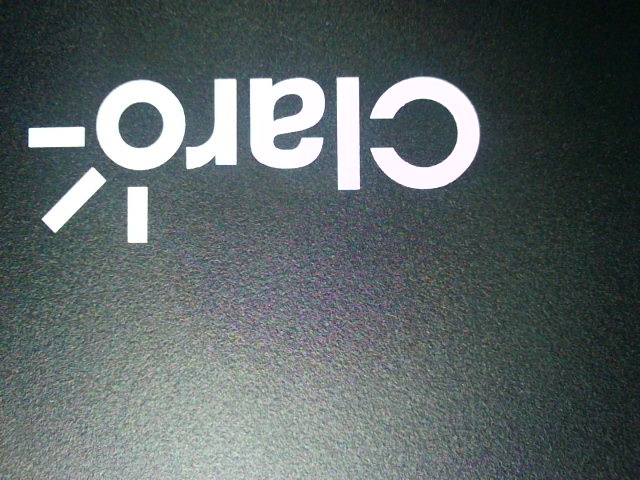BC_Claor: (25, 43, 481, 251)
